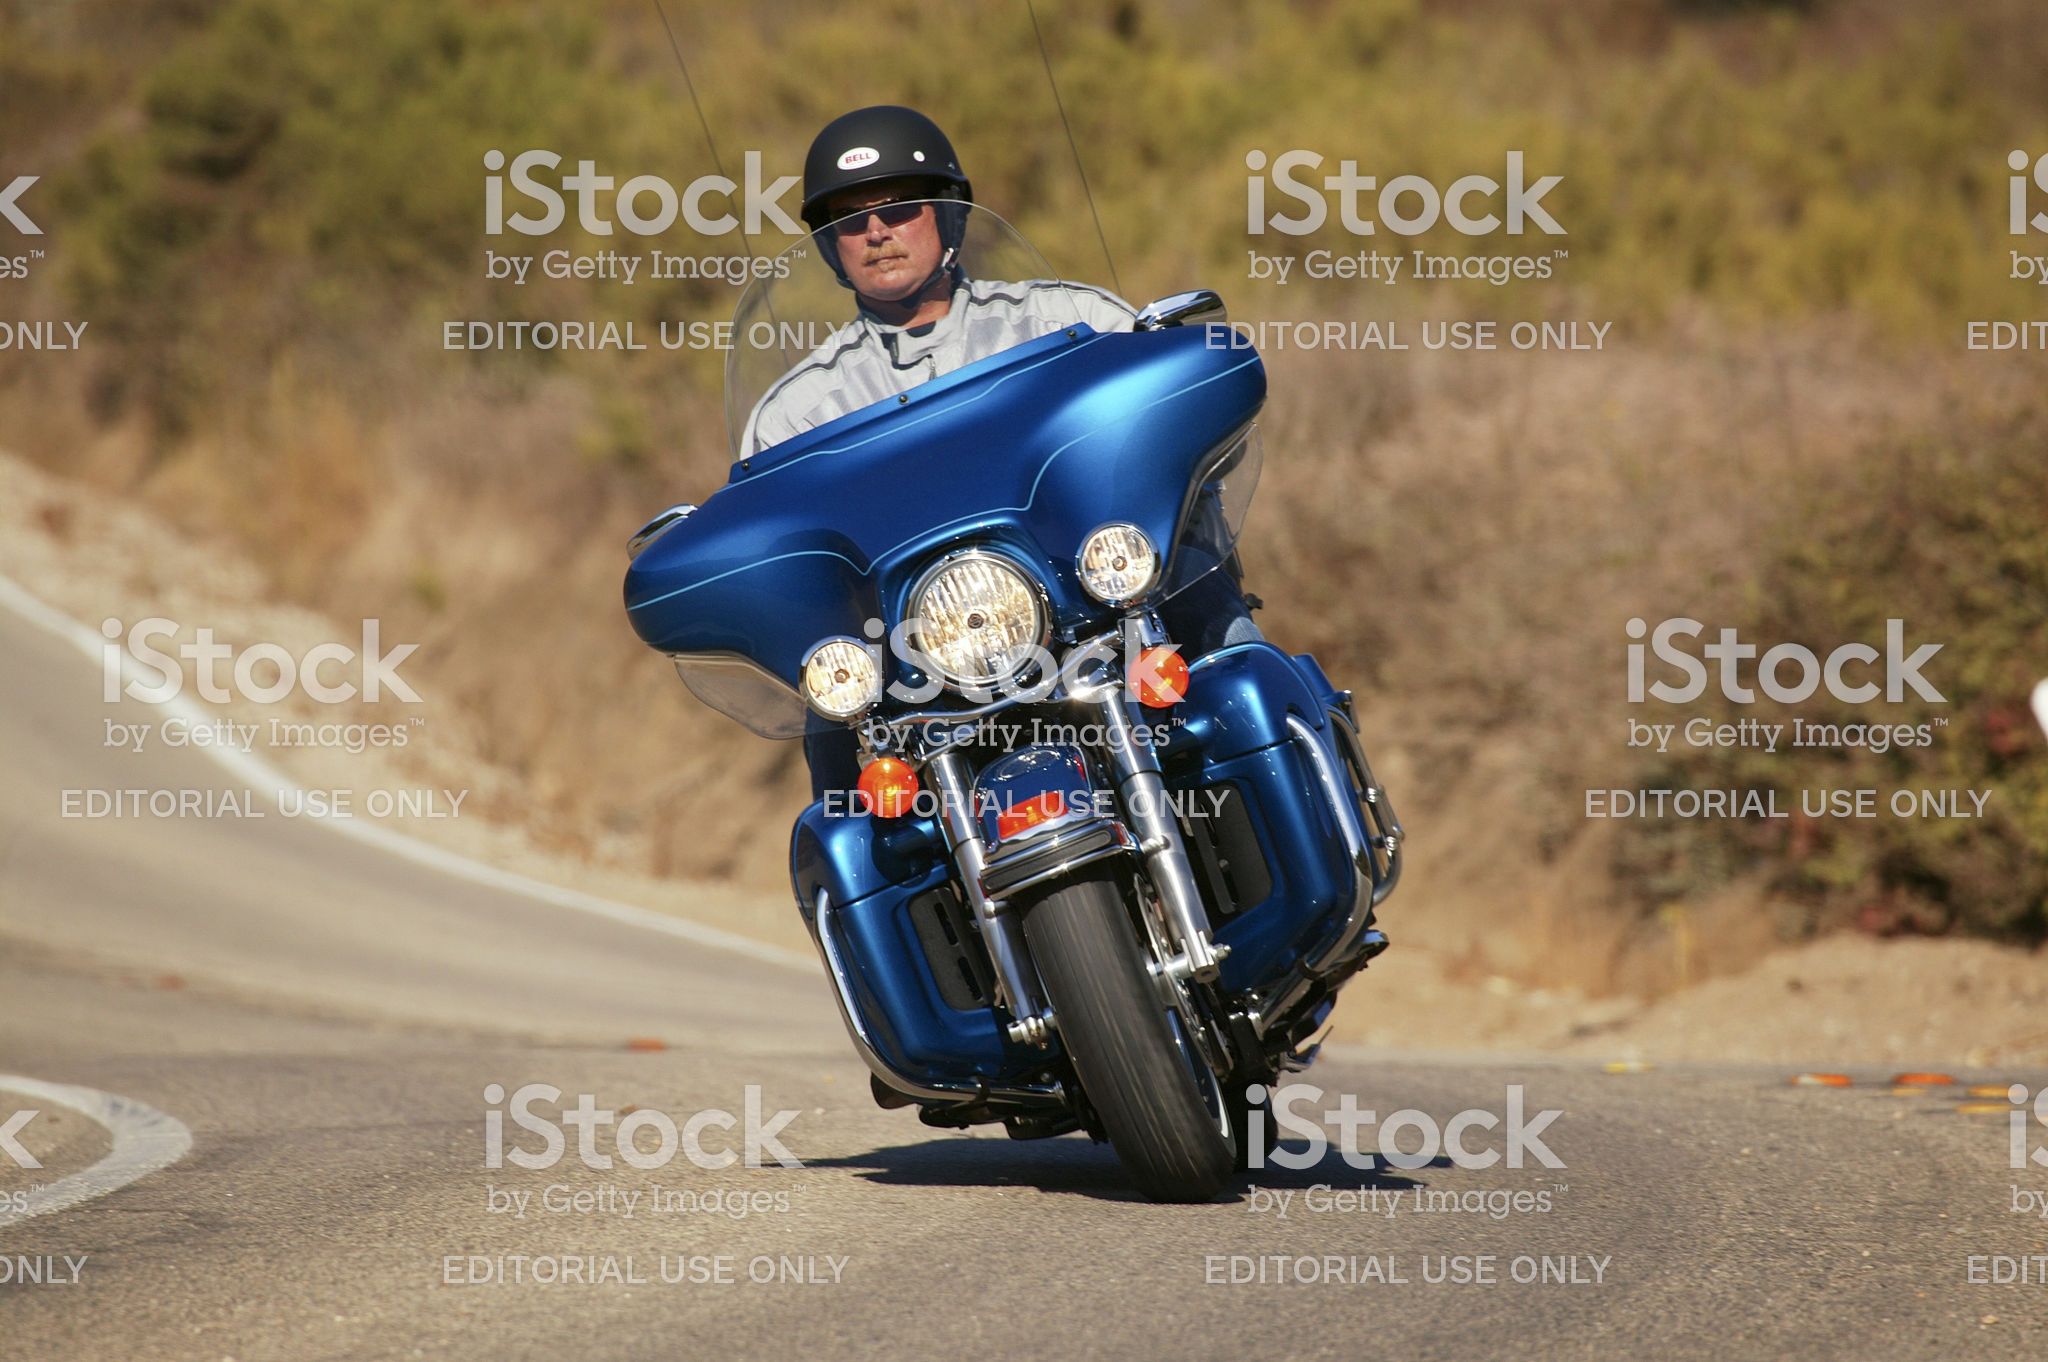helmet: (781, 93, 954, 211)
